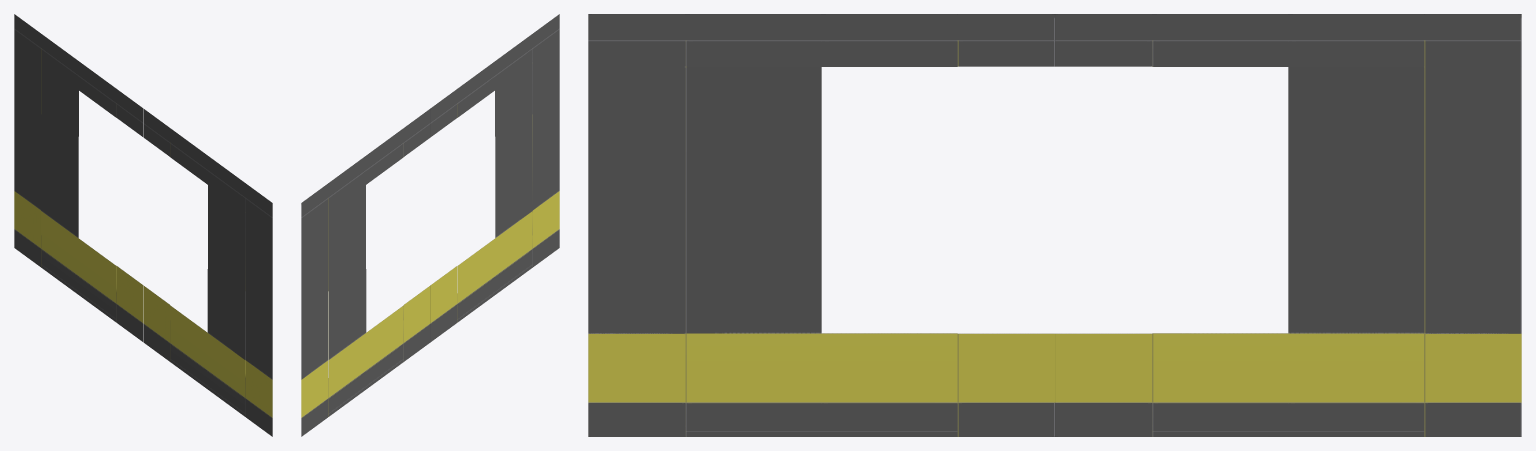
File: wall2_window.fbx
The picture shows the model from 3 angles, left to right: view 1: azimuth 30°, elevation 25°; view 2: azimuth 150°, elevation 25°; view 3: azimuth 270°, elevation 25°; orthographic projection. The views are drawn at different scales.
Visible parts, largest first — view 1: Wall_Simple_01; view 2: Wall_Simple_01; view 3: Wall_Simple_01.
Part boxes in pixels (bbox=[...]): Wall_Simple_01: bbox=[14, 14, 272, 436]; Wall_Simple_01: bbox=[301, 14, 559, 436]; Wall_Simple_01: bbox=[588, 14, 1521, 436].
Bounding box in the file's own units: 600 × 0.5075 × 300.
2 materials, 1 textured.
